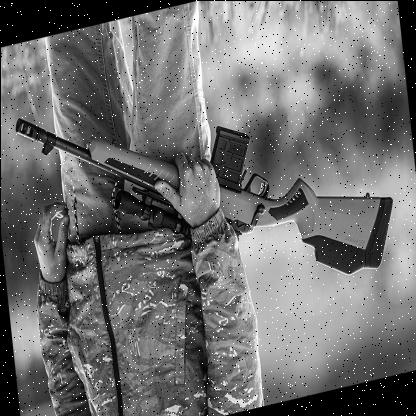rifle: (6, 30, 400, 358)
